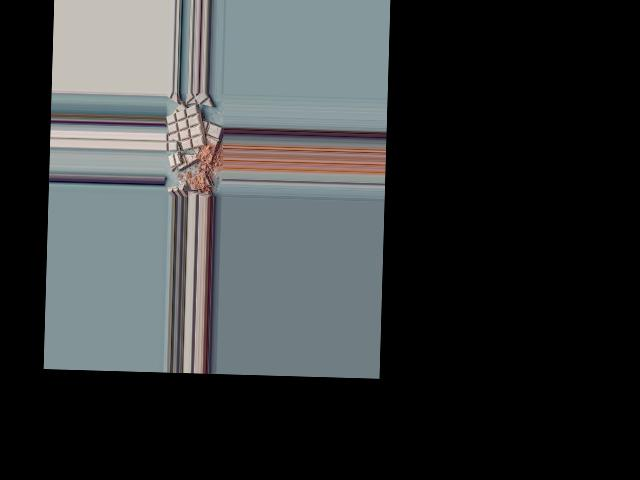chocolate: (165, 102, 206, 150)
